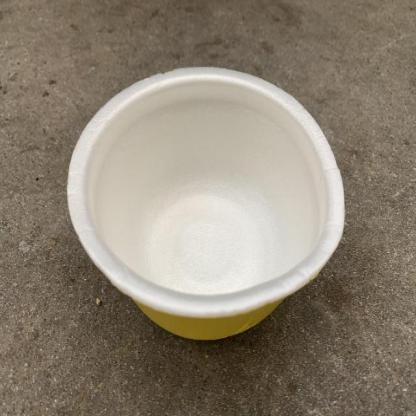Glass Cup: (65, 65, 347, 341), (67, 66, 345, 340)
